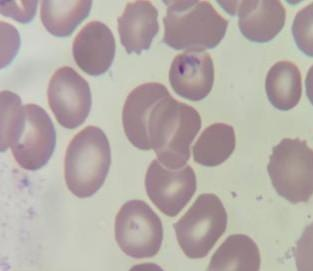Infected: (171, 46, 216, 99)
Uninfected: (151, 98, 201, 170), (65, 125, 111, 199), (175, 193, 225, 258), (123, 81, 171, 148), (164, 0, 228, 50), (11, 104, 58, 170), (267, 137, 313, 203), (145, 160, 196, 217), (115, 199, 164, 257), (47, 67, 91, 127), (73, 21, 117, 75), (118, 0, 158, 54), (239, 0, 285, 44), (194, 122, 236, 168), (40, 0, 92, 37), (265, 59, 302, 110)
